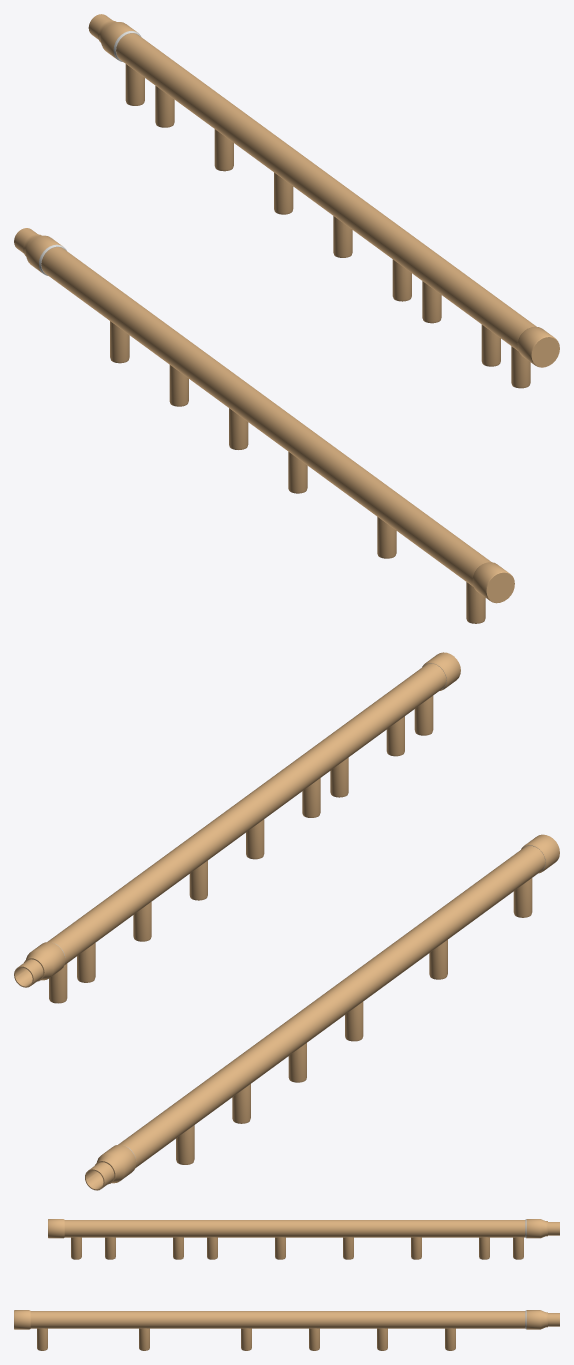
Rendered from slab_pipes_supply__plumbing-pex+copper.glb.
The picture shows the model from 3 angles, top to bottom: view 1: azimuth 30°, elevation 25°; view 2: azimuth 150°, elevation 25°; view 3: azimuth 270°, elevation 25°; orthographic projection. The views are drawn at different scales.
Visible parts, largest first — view 1: manifold_supply_cold, manifold_supply_hot; view 2: manifold_supply_cold, manifold_supply_hot; view 3: manifold_supply_cold, manifold_supply_hot.
Boxes of the visible parts, x1=… form: manifold_supply_cold: x1=88, y1=14, x2=559, y2=388; manifold_supply_hot: x1=14, y1=228, x2=514, y2=623; manifold_supply_cold: x1=14, y1=652, x2=460, y2=1003; manifold_supply_hot: x1=85, y1=834, x2=559, y2=1190; manifold_supply_cold: x1=48, y1=1219, x2=559, y2=1259; manifold_supply_hot: x1=14, y1=1310, x2=559, y2=1350.
Bounding box in the file's own units: 0.1115 × 0.2673 × 0.8831.
